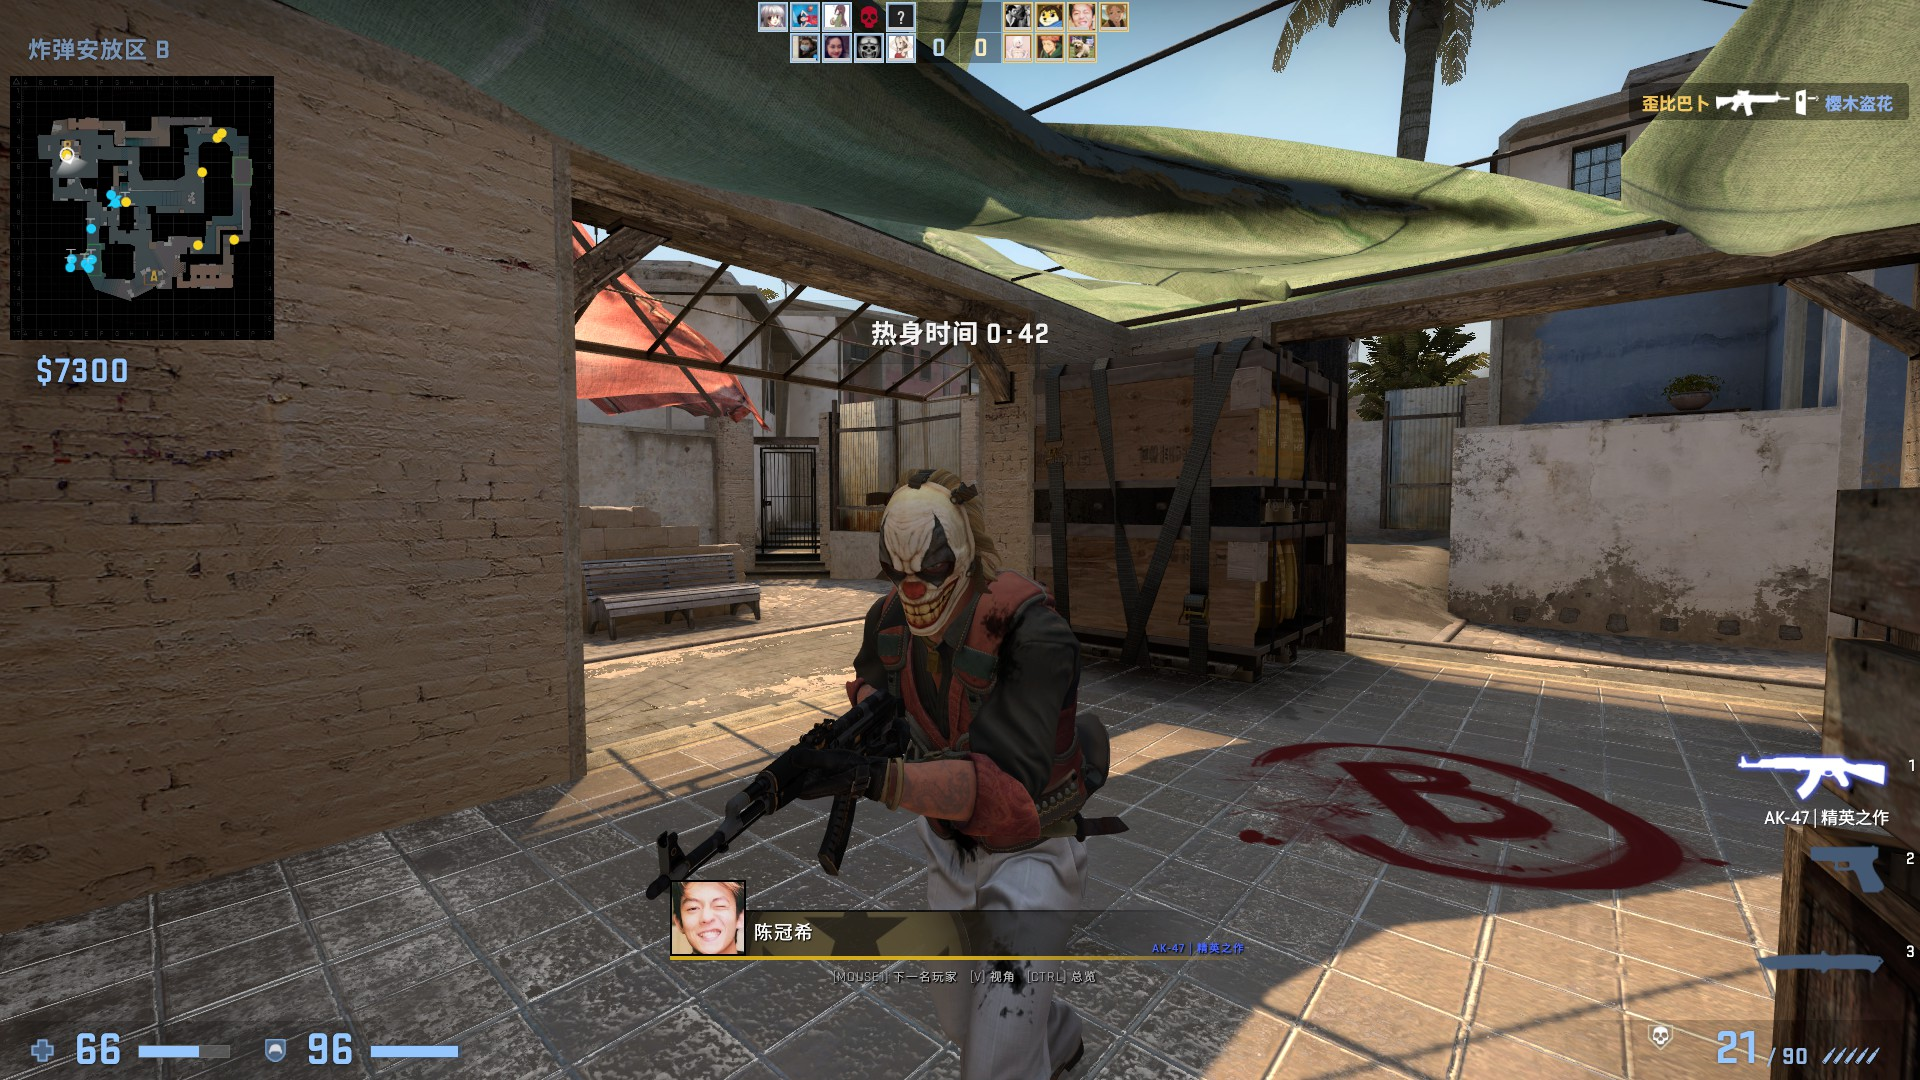head: (872, 464, 983, 641)
